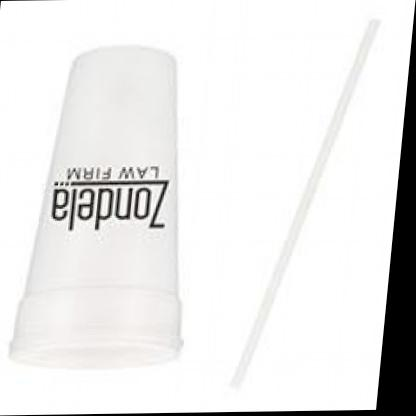Plastic: (0, 28, 242, 395)
